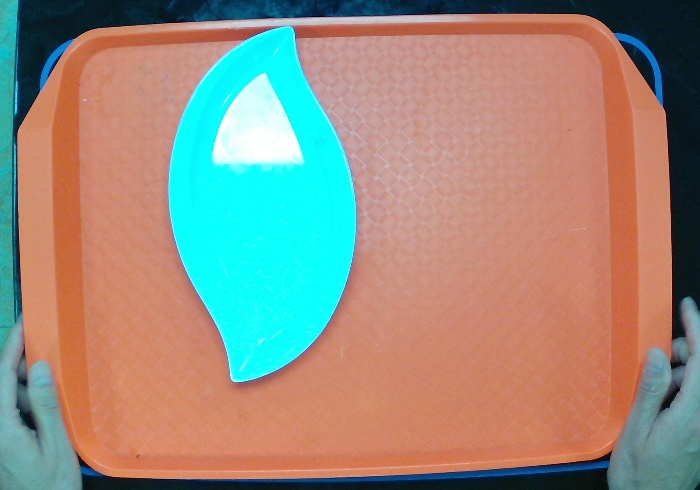RJxy-Jian_Jiao_Pan: (164, 23, 358, 392)
